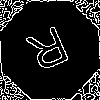R: (25, 25, 76, 81)
